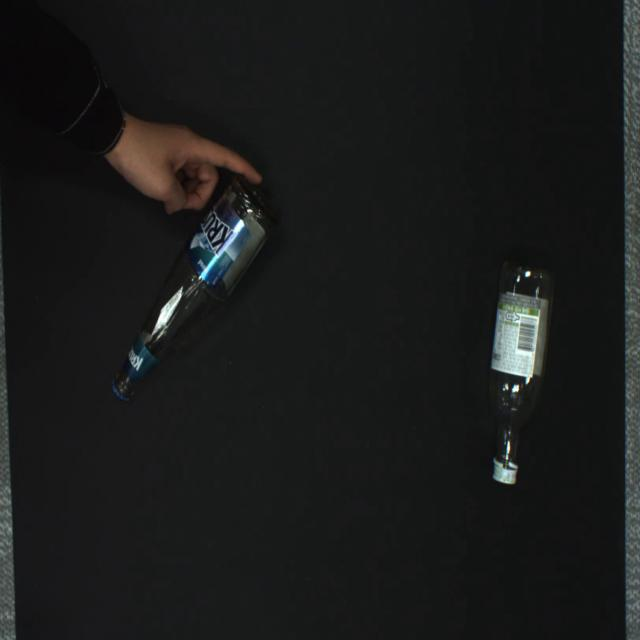beer-bottle: (112, 175, 276, 400)
soju-bottle: (489, 263, 554, 484)
